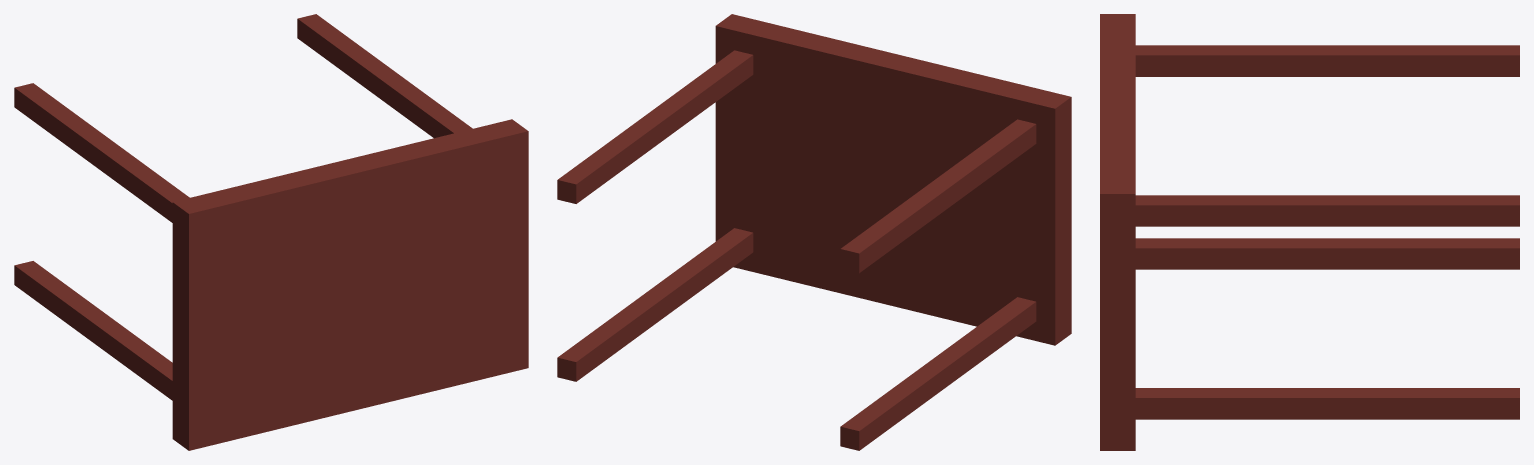
The model's file is SM_BreeStreetAwning.obj.
The picture shows the model from 3 angles, left to right: view 1: azimuth 30°, elevation 25°; view 2: azimuth 150°, elevation 25°; view 3: azimuth 270°, elevation 25°; orthographic projection. The views are drawn at different scales.
Visible parts, largest first — view 1: SM_BreeStreetAwning; view 2: SM_BreeStreetAwning; view 3: SM_BreeStreetAwning.
Part boxes in pixels (bbox=[...]): SM_BreeStreetAwning: bbox=[14, 14, 528, 450]; SM_BreeStreetAwning: bbox=[557, 14, 1071, 450]; SM_BreeStreetAwning: bbox=[1100, 14, 1519, 450].
Bounding box in the file's own units: 180 × 120 × 178.
